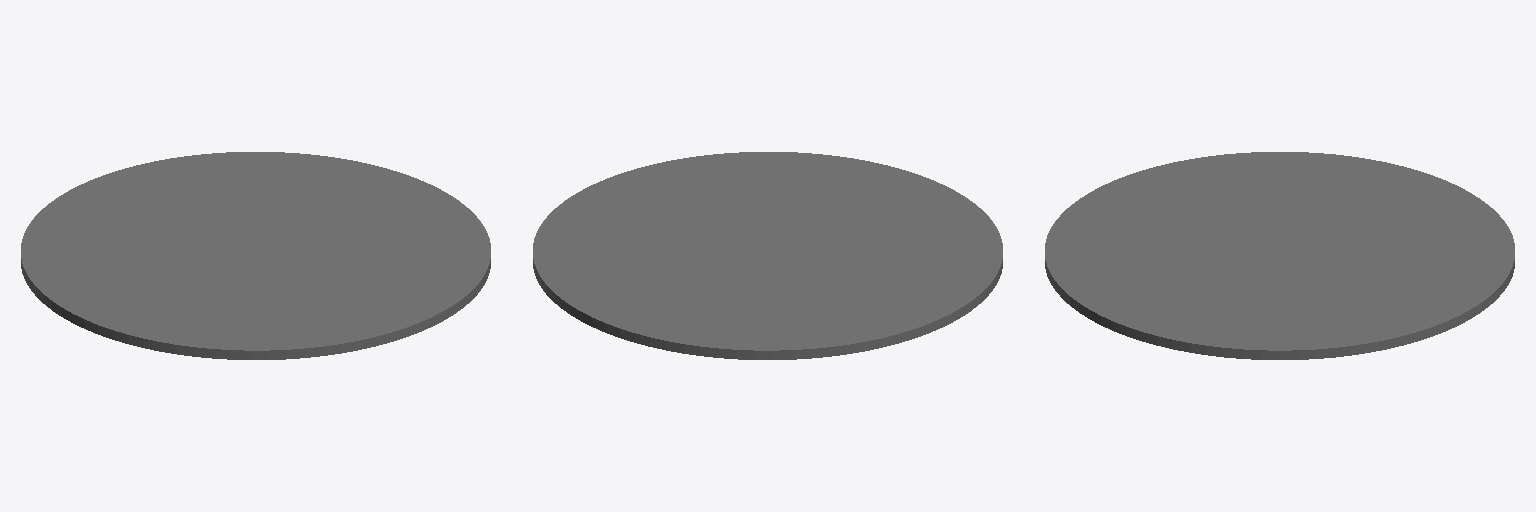
Rendered from ground.obj.
3 renders of one model, left to right at view 1: azimuth 30°, elevation 25°; view 2: azimuth 150°, elevation 25°; view 3: azimuth 270°, elevation 25°, orthographic.
Bounding box in the file's own units: 16.35 × 0.3683 × 16.35.